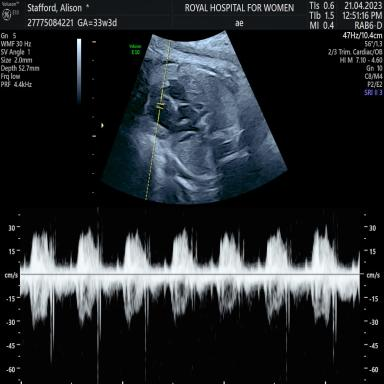Ultrasound-Waves: (27, 208, 356, 384)
